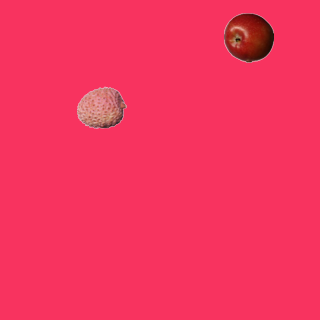Apple Braeburn: (223, 12, 273, 62)
Lychee: (76, 82, 126, 132)
